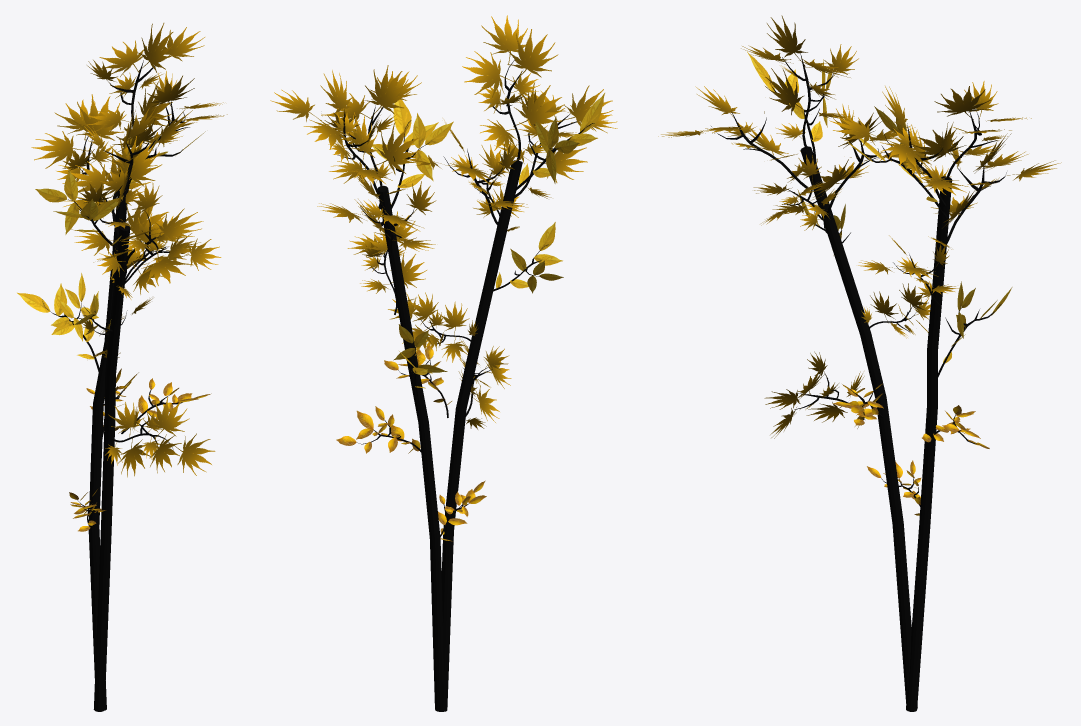
File: yellowtree6.fbx
The picture shows the model from 3 angles, left to right: view 1: azimuth 30°, elevation 25°; view 2: azimuth 150°, elevation 25°; view 3: azimuth 270°, elevation 25°; orthographic projection. The views are drawn at different scales.
Visible parts, largest first — view 1: pCylinder1070; view 2: pCylinder1070; view 3: pCylinder1070.
Boxes of the visible parts, <box> form: pCylinder1070: <box>17,23,227,711</box>; pCylinder1070: <box>270,15,617,711</box>; pCylinder1070: <box>658,15,1061,711</box>.
Size of the model in its own units: 17.35 by 44.36 by 24.1.
